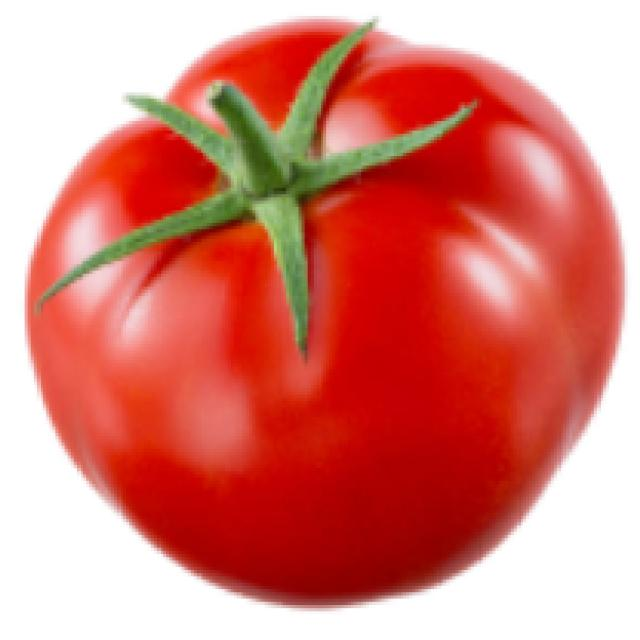Tomato: (29, 17, 620, 615)
